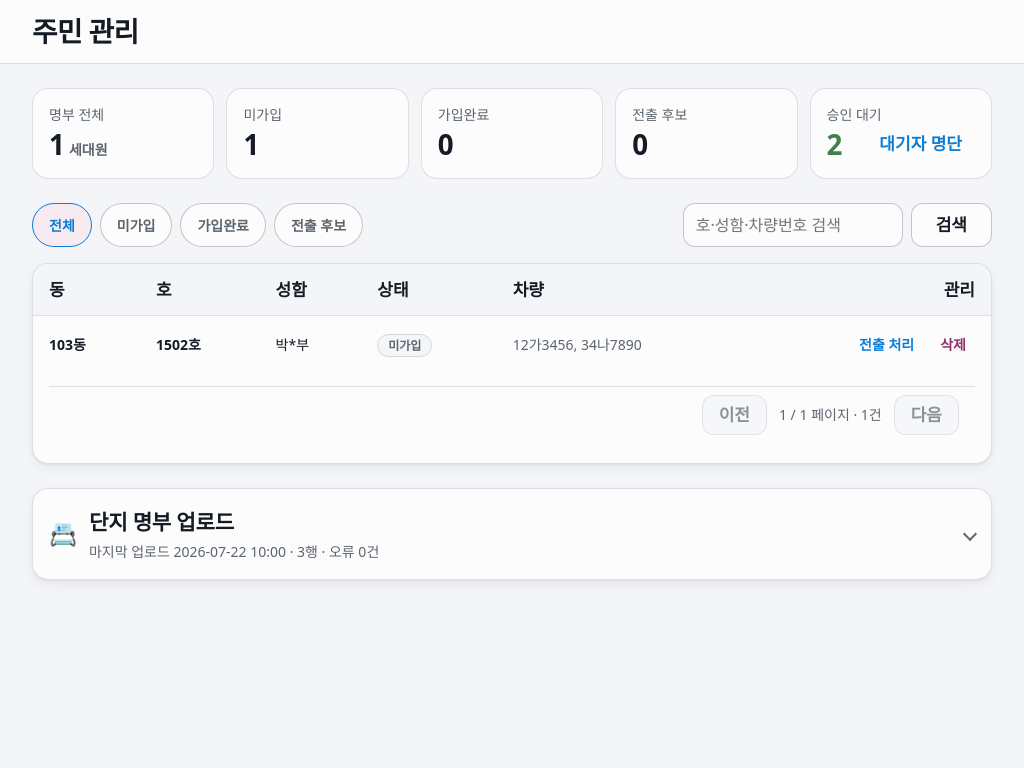
Test: Approvals › 거절은 사유 입력 전까지 확정 버튼이 비활성
Click the button "대기자 명단" at (921, 143), box [866,127,975,159]
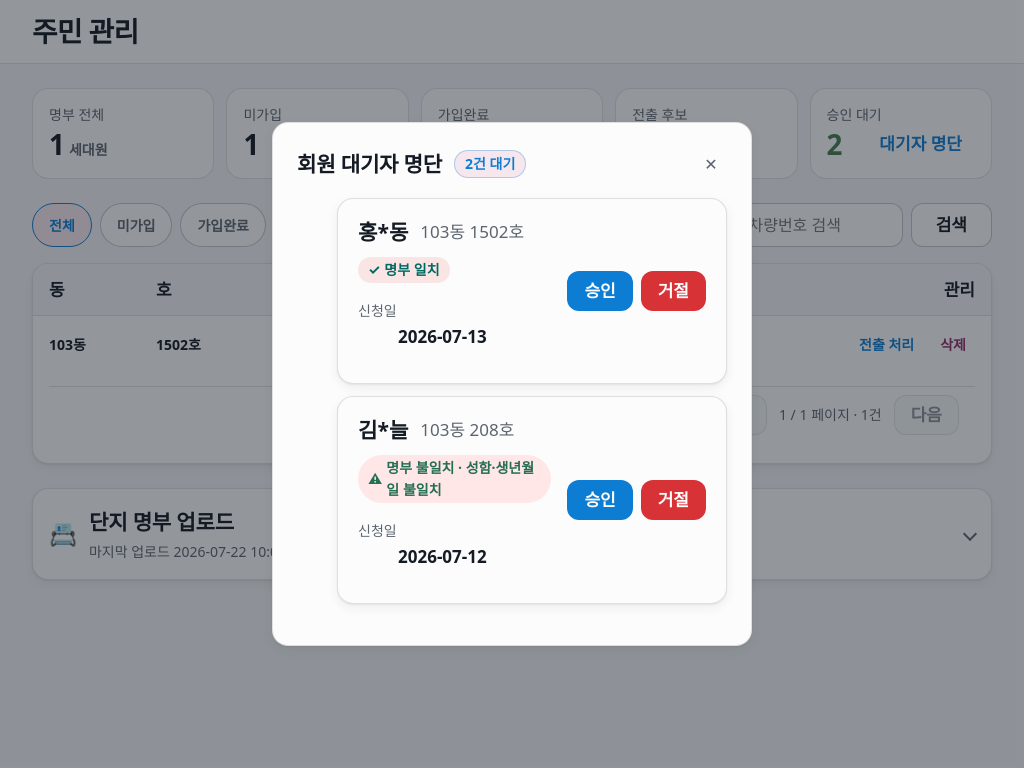
Expected: the text "홍*동" is shown, [358,215,408,249]
Click the button "거절" below "홍*동" at (673, 291), box [641,271,706,311]
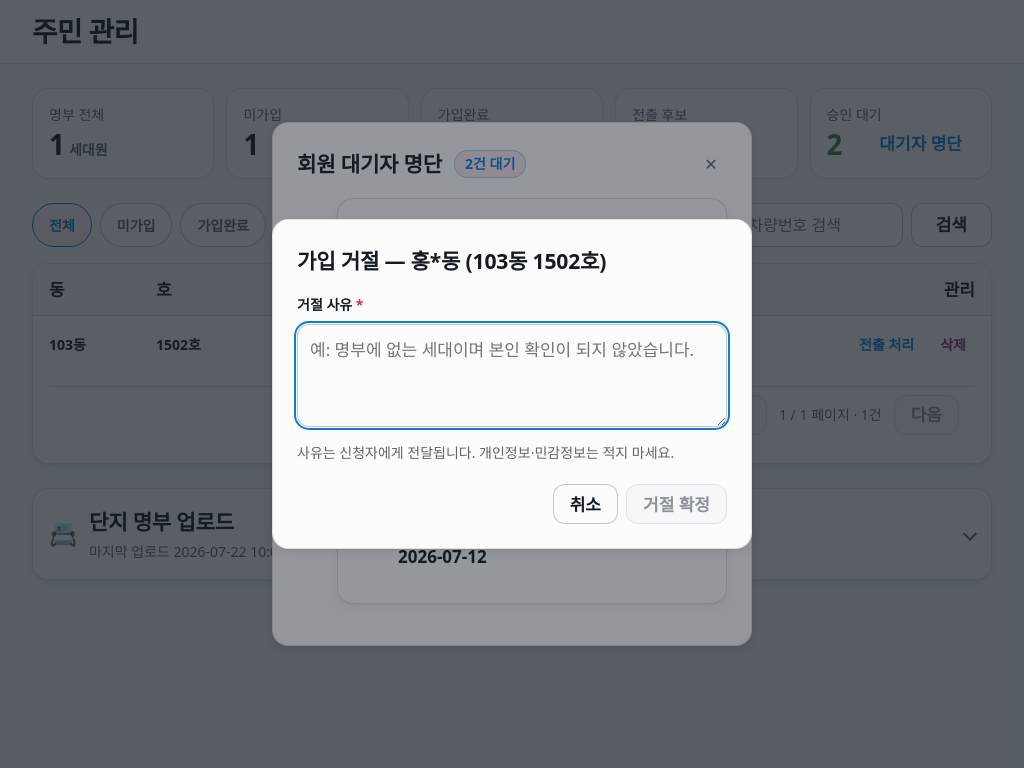
Expected: the button "거절 확정" is disabled, [626,484,727,524]
Type "명부 미등록 세대" into the text box labelled "거절 사유 *" at (512, 375), box [297,324,727,426]
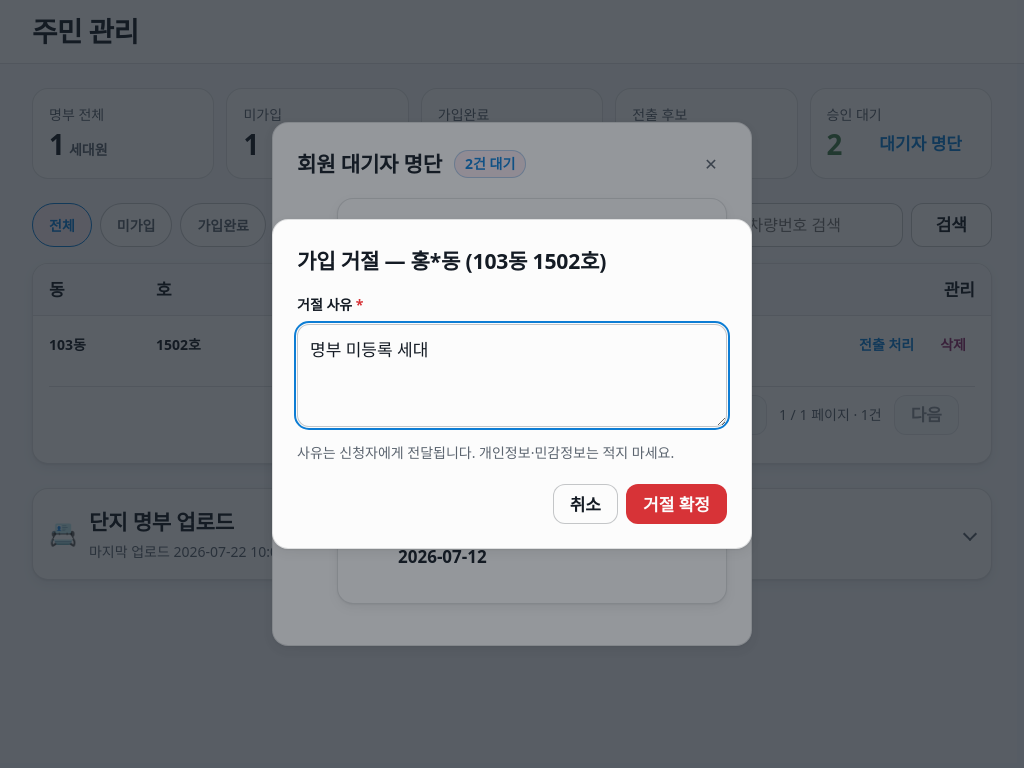
Expected: the button "거절 확정" is enabled, [626,484,727,524]
